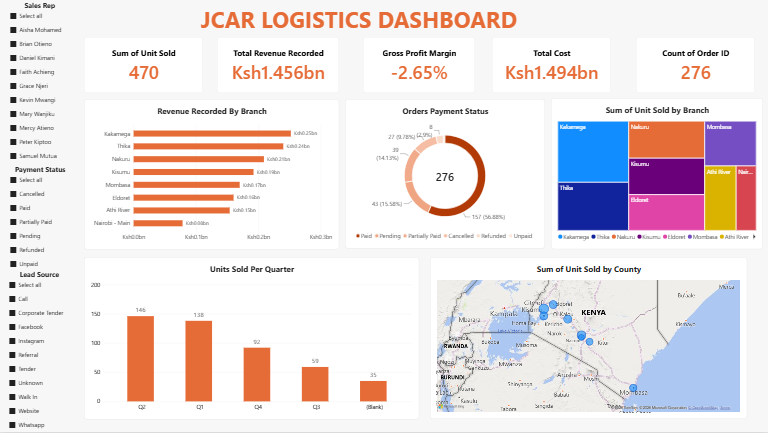

The dashboard page shown, as its layout file describes it:
{"tool":"powerbi","page":{"name":"Executive Dashboard","canvas":[1920,1080],"ordinal":0},"visuals":[{"type":"cardVisual","fields":{"Data":["Sum(fact_sales.Unit Sold)"]},"box":[208.8,92.5,297.5,140],"z":0},{"type":"cardVisual","fields":{"Data":["fact_sales.Total Revenue Recorded"]},"box":[541.2,92.5,305,140],"z":1000},{"type":"cardVisual","fields":{"Data":["fact_sales.Gross Profit Margin"]},"box":[906.2,92.5,280,140],"z":2000},{"type":"slicer","title":"Payment Status","fields":{"Values":["fact_sales.Payment Status"]},"box":[17.1,410,165.7,267.1],"z":3000},{"type":"slicer","title":"Sales Rep","fields":{"Values":["dim_salesperson.Sales Rep"]},"box":[18,0,164,410],"z":4000},{"type":"barChart","title":"Revenue Recorded By Branch","fields":{"Category":["dim_branch.Branch"],"Y":["Sum(fact_sales.Revenue Recorded)"]},"box":[209.8,248,638,376],"z":5000},{"type":"donutChart","title":"Orders Payment Status","fields":{"Category":["fact_sales.Payment Status"],"Y":["CountNonNull(fact_sales.Order ID)"]},"box":[861.8,248,500,374],"z":6000},{"type":"treemap","fields":{"Values":["Sum(fact_sales.Unit Sold)"],"Group":["dim_branch.Branch"]},"box":[1377.8,246,530,378],"z":7000},{"type":"textbox","box":[482,10,830,78],"z":8000},{"type":"cardVisual","fields":{"Data":["fact_sales.Total Cost"]},"box":[1229,92.9,297.5,140],"z":9000},{"type":"columnChart","title":"Units Sold Per Quarter","fields":{"Y":["Sum(fact_sales.Unit Sold)"],"Category":["dim_date.Quarter"]},"box":[209.8,642,838,406],"z":10000},{"type":"map","fields":{"Category":["dim_location.County"],"Size":["Sum(fact_sales.Unit Sold)"]},"box":[1073.8,642.5,792.5,405],"z":11000},{"type":"slicer","title":"Lead Source","fields":{"Values":["fact_sales.Lead Source"]},"box":[15.7,672.9,167.1,407.1],"z":12000},{"type":"cardVisual","fields":{"Data":["CountNonNull(fact_sales.Order ID)"]},"box":[1589.8,92.9,297.5,140],"z":13000}]}

Visuals, with their boxes in screenshot pixels (x1, y1, x2, y2), scaled from the page's 1920x1080 canvas onto the 768x433 screenshot:
cardVisual - Sum(fact_sales.Unit Sold): rect(84, 37, 203, 93)
cardVisual - fact_sales.Total Revenue Recorded: rect(216, 37, 338, 93)
cardVisual - fact_sales.Gross Profit Margin: rect(362, 37, 474, 93)
"Payment Status" slicer: rect(7, 164, 73, 271)
"Sales Rep" slicer: rect(7, 0, 73, 164)
"Revenue Recorded By Branch" barChart: rect(84, 99, 339, 250)
"Orders Payment Status" donutChart: rect(345, 99, 545, 249)
treemap - Sum(fact_sales.Unit Sold) x dim_branch.Branch: rect(551, 99, 763, 250)
textbox: rect(193, 4, 525, 35)
cardVisual - fact_sales.Total Cost: rect(492, 37, 611, 93)
"Units Sold Per Quarter" columnChart: rect(84, 257, 419, 420)
map - dim_location.County x Sum(fact_sales.Unit Sold): rect(430, 258, 747, 420)
"Lead Source" slicer: rect(6, 270, 73, 432)
cardVisual - CountNonNull(fact_sales.Order ID): rect(636, 37, 755, 93)
